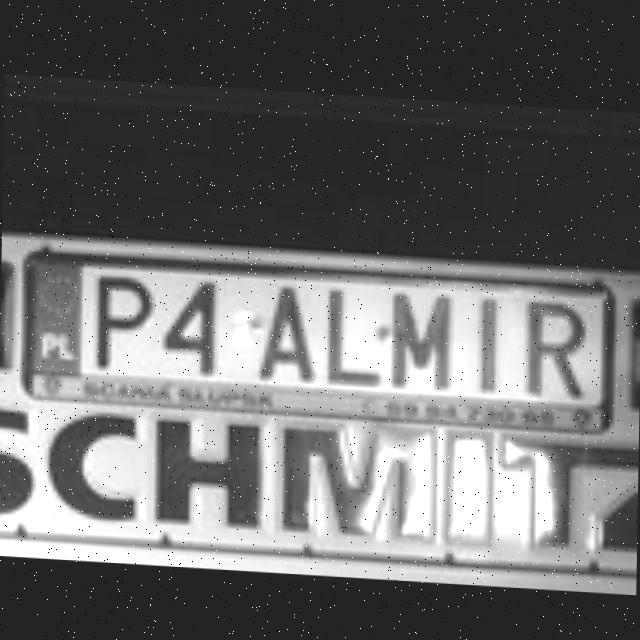license-plates: (28, 259, 610, 405)
